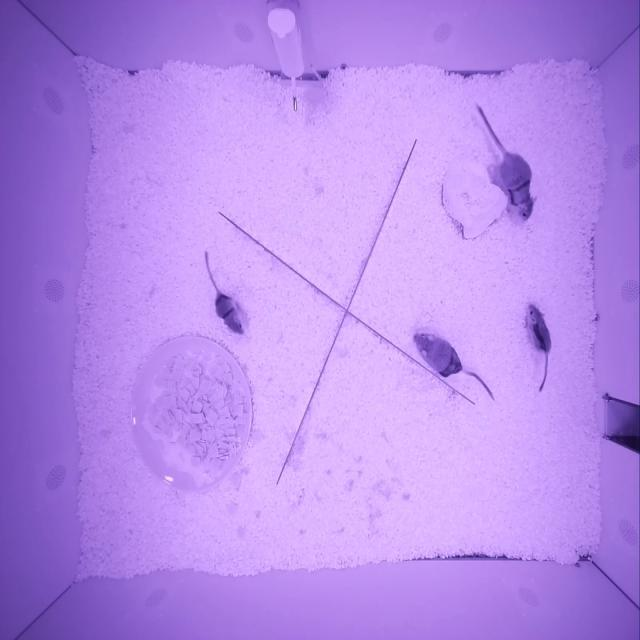adult_back: (414, 332, 462, 378)
adult_front: (501, 154, 537, 221)
pup_h_stripe: (215, 295, 244, 334)
pup_v_stripe: (527, 304, 551, 352)
